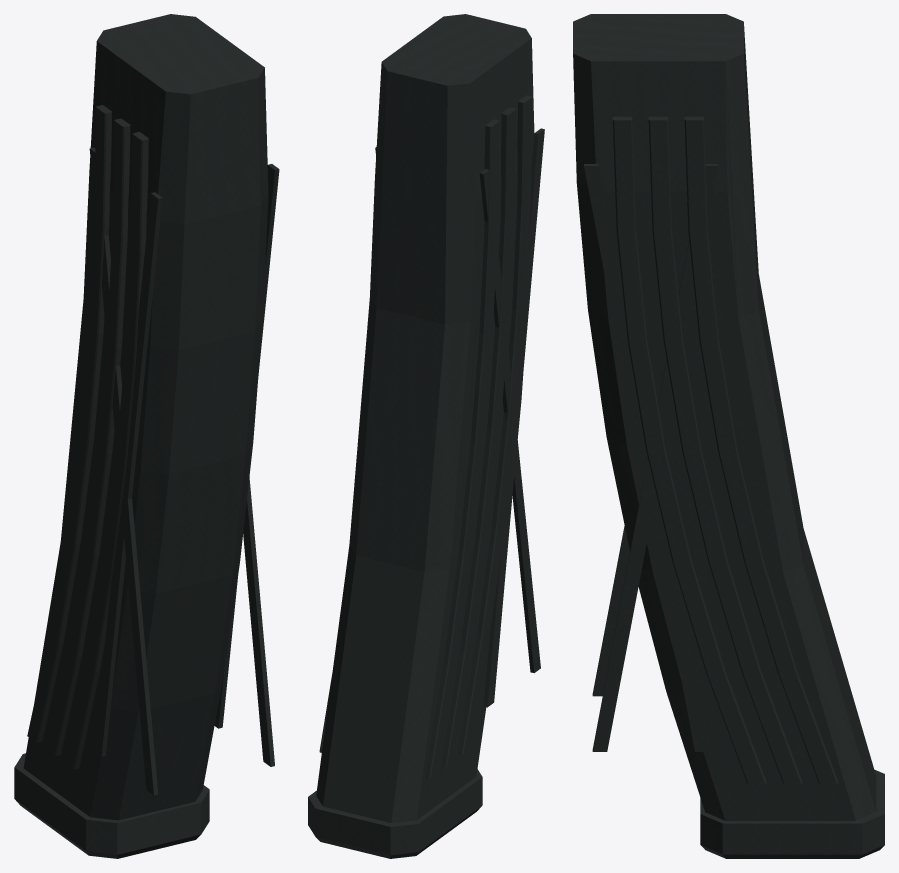
Rendered from scorpion_30.glb.
3 renders of one model, left to right at view 1: azimuth 30°, elevation 25°; view 2: azimuth 150°, elevation 25°; view 3: azimuth 270°, elevation 25°, orthographic. The views are drawn at different scales.
Parts seen in each view (by area): view 1: scorpion_30_individual_shell, scorpion_30_individual_shell.001; view 2: scorpion_30_individual_shell.001, scorpion_30_individual_shell; view 3: scorpion_30_individual_shell, scorpion_30_individual_shell.001.
Boxes of the visible parts, <box> form: scorpion_30_individual_shell: <box>14,14,279,858</box>; scorpion_30_individual_shell.001: <box>23,299,149,815</box>; scorpion_30_individual_shell.001: <box>316,62,512,822</box>; scorpion_30_individual_shell: <box>308,14,544,858</box>; scorpion_30_individual_shell: <box>573,14,884,858</box>; scorpion_30_individual_shell.001: <box>608,26,876,820</box>.
Bounding box in the file's own units: 0.0575 × 0.359 × 0.1278.
Materials: 1 (1 with a texture image).
